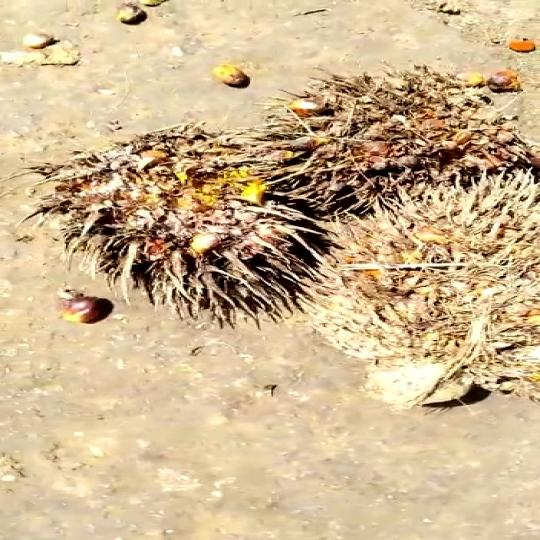terlalu masak: (303, 184, 531, 403), (48, 119, 292, 313), (232, 76, 528, 212)
